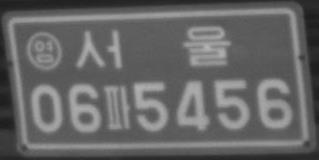0: (30, 83, 64, 134)
4: (175, 80, 211, 131)
5: (132, 80, 169, 133), (213, 79, 250, 130)
6: (256, 77, 293, 130), (67, 82, 102, 134)
서울_D: (75, 25, 231, 69)
영: (26, 31, 63, 70)
파: (103, 85, 130, 130)
